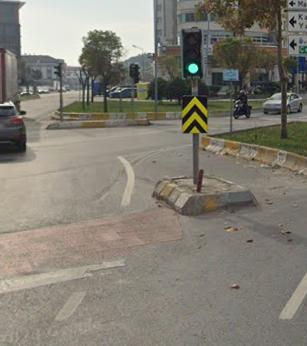greenlight: (181, 31, 203, 78)
